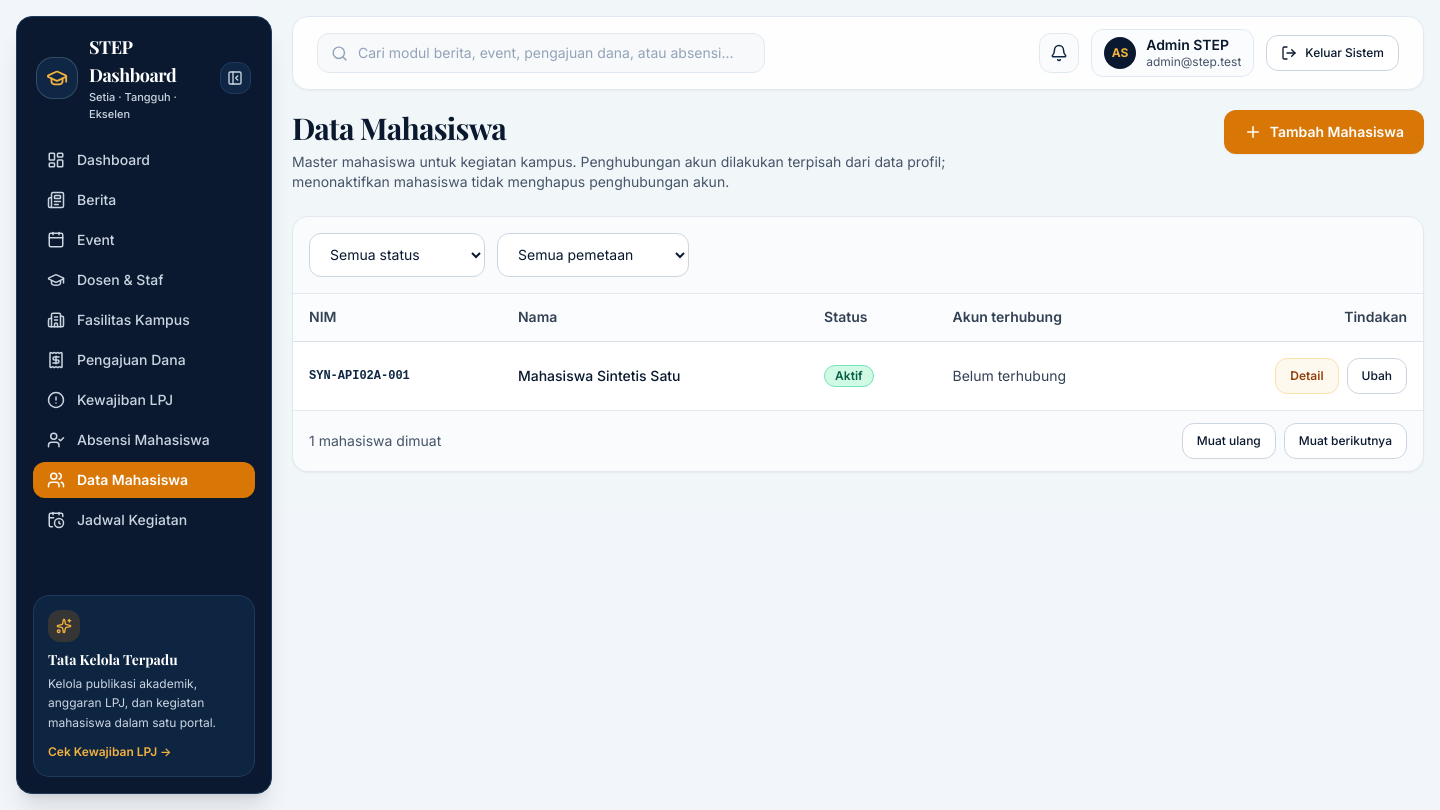
Test: Klien mahasiswa & jadwal kegiatan (client-only, transport disimulasikan) › memuat halaman berikutnya dengan cursor opaque dari respons sebelumnya
This screenshot has width=1440, height=810.
expect the text "SYN-API02A-001" is shown: met, box [293, 342, 502, 410]
Click the button "Muat berikutnya".
click(1345, 441)  # box [1284, 423, 1407, 459]
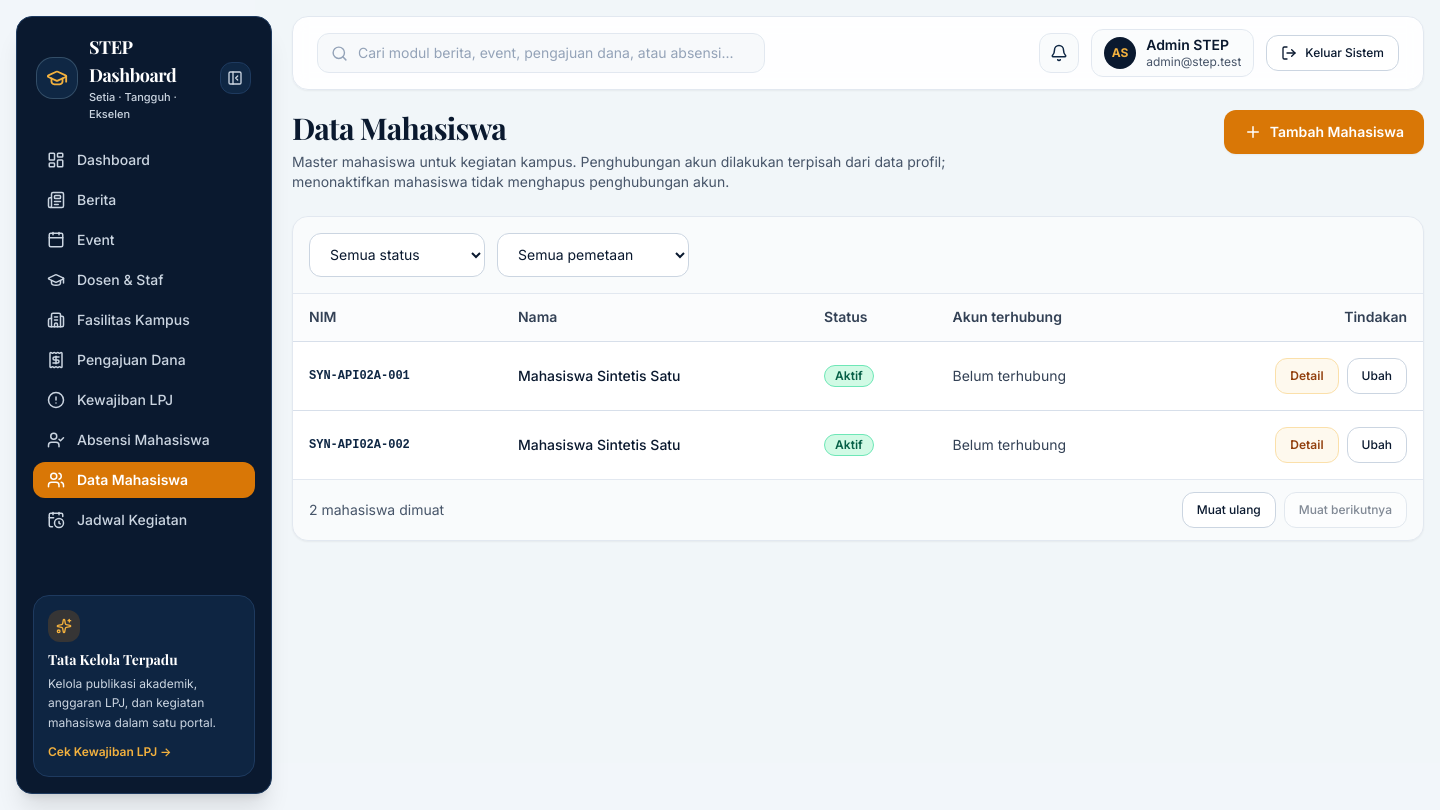
expect the text "SYN-API02A-001" is shown: met, box [293, 342, 502, 410]
expect the text "SYN-API02A-002" is shown: met, box [293, 410, 502, 479]
expect the button "Muat berikutnya" is disabled: met, box [1284, 492, 1407, 528]
